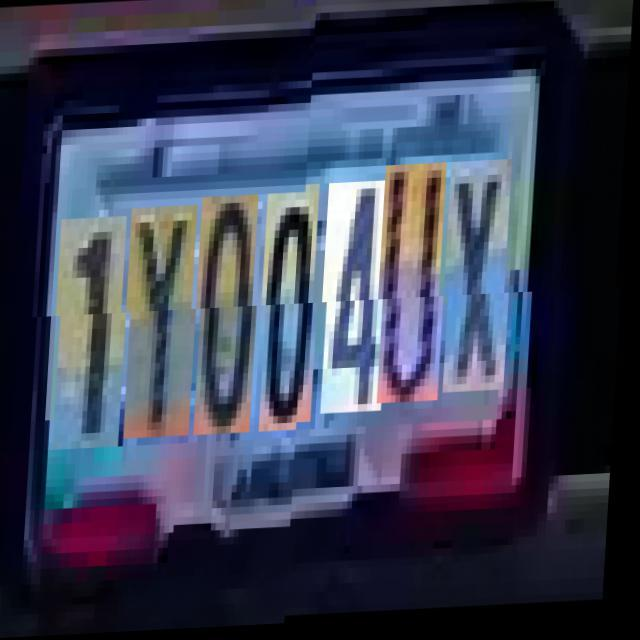1: (58, 218, 134, 450)
4: (326, 192, 396, 424)
O: (198, 198, 266, 438), (264, 195, 326, 435)
U: (382, 175, 454, 415)
X: (448, 172, 518, 405)
Y: (128, 207, 204, 440)
